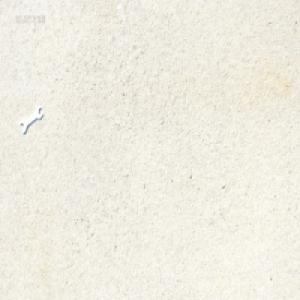Wrench: (20, 101, 43, 132)
